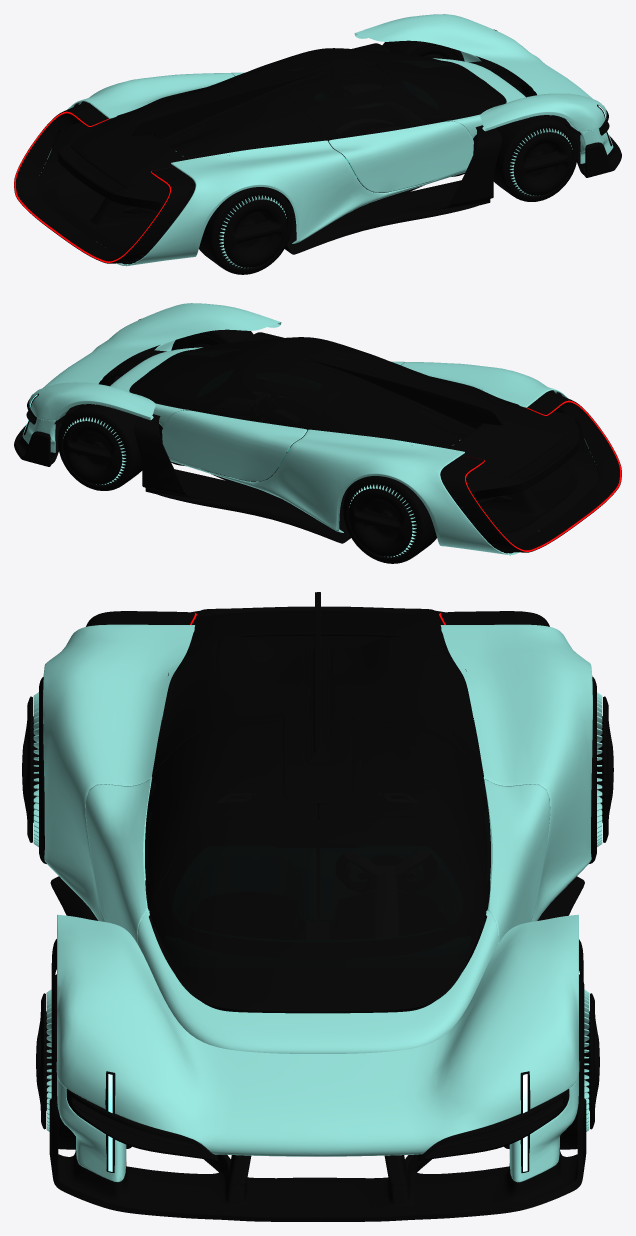
Rendered from vision-gt.glb.
3 views of the same model, one above another, from view 1: azimuth 30°, elevation 25°; view 2: azimuth 150°, elevation 25°; view 3: azimuth 270°, elevation 25° (orthographic). The views are drawn at different scales.
Parts seen in each view (by area): view 1: Cube.048, Door_R_accent, Door_R_glass, Windscreen, Wheel_RR_glass, Wheel_FR_tire, Wheel_FR_glass, Wheel_RR_tire, Door_L_glass, Wheel_RR_shine, Wheel_FR_shine, Wheel_FL_tire (+1 smaller); view 2: Cube.048, Door_L_accent, Door_L_glass, Windscreen, Wheel_RL_glass, Wheel_FL_tire, Wheel_FL_glass, Wheel_RL_tire, Door_R_glass, Wheel_RL_shine, Wheel_FL_shine, Wheel_FR_tire (+1 smaller); view 3: Cube.048, Windscreen, Door_L_glass, Door_R_glass, Door_R_accent, Door_L_accent, Wheel_RR_glass, Wheel_RL_glass, Wheel_FR_glass, Wheel_FL_glass, Wheel_FL_tire, Wheel_FR_tire (+4 smaller).
Part boxes in pixels (x1,y1,x2,y2): Cube.048: (14, 14, 621, 266); Door_R_accent: (328, 121, 473, 192); Door_R_glass: (285, 64, 447, 141); Windscreen: (346, 48, 506, 120); Wheel_RR_glass: (223, 199, 287, 267); Wheel_FR_tire: (493, 115, 577, 201); Wheel_FR_glass: (513, 132, 572, 195); Wheel_RR_tire: (199, 187, 292, 274); Door_L_glass: (248, 48, 375, 82); Wheel_RR_shine: (219, 195, 286, 268); Wheel_FR_shine: (509, 128, 572, 196); Wheel_FL_tire: (382, 40, 464, 61); Cube.048: (14, 303, 621, 555); Door_L_accent: (162, 410, 307, 481); Door_L_glass: (188, 353, 350, 430); Windscreen: (129, 337, 289, 409); Wheel_RL_glass: (348, 488, 412, 556); Wheel_FL_tire: (58, 404, 142, 490); Wheel_FL_glass: (63, 421, 122, 484); Wheel_RL_tire: (343, 476, 436, 563); Door_R_glass: (260, 337, 387, 371); Wheel_RL_shine: (349, 484, 416, 557); Wheel_FL_shine: (63, 417, 126, 485); Wheel_FR_tire: (171, 329, 253, 350); Cube.048: (43, 592, 592, 1221); Windscreen: (149, 816, 486, 1013); Door_L_glass: (318, 719, 490, 910); Door_R_glass: (145, 719, 317, 910); Door_R_accent: (85, 779, 151, 942); Door_L_accent: (484, 779, 550, 943); Wheel_RR_glass: (22, 696, 38, 842); Wheel_RL_glass: (597, 696, 613, 842); Wheel_FR_glass: (36, 993, 51, 1129); Wheel_FL_glass: (584, 993, 599, 1129); Wheel_FL_tire: (504, 974, 584, 1149); Wheel_FR_tire: (51, 974, 131, 1149).
Bounding box in the file's own units: 5.44 × 1.19 × 2.65.
